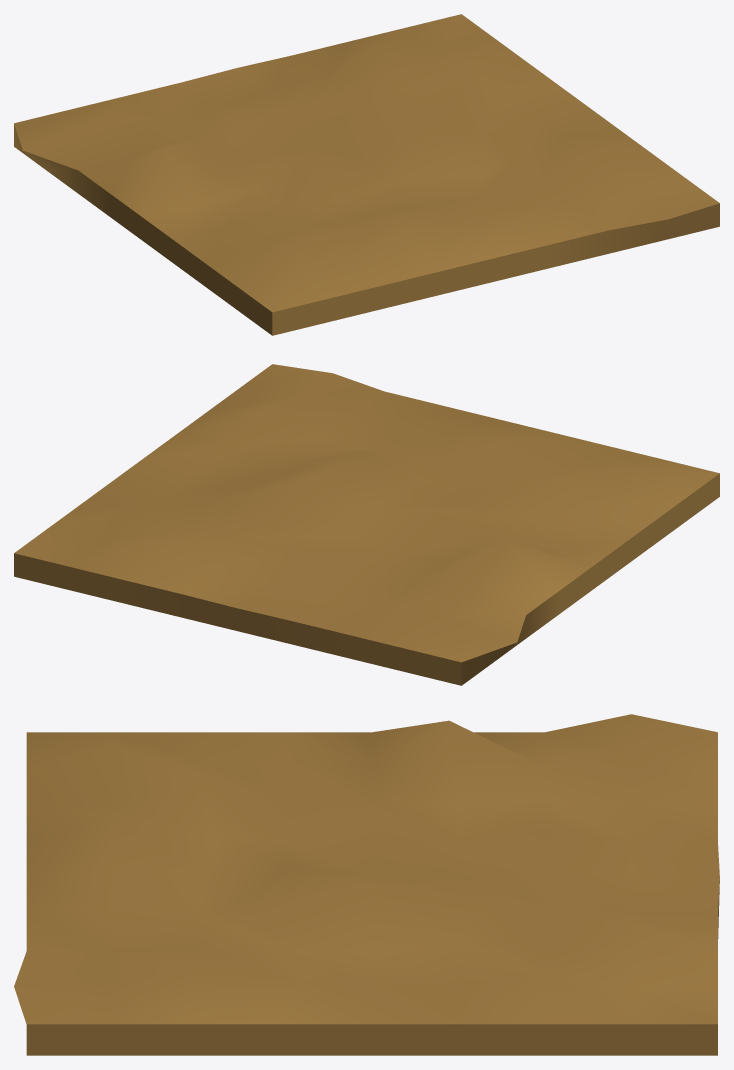
Rendered from Tilled_terrain.fbx.
The picture shows the model from 3 angles, top to bottom: view 1: azimuth 30°, elevation 25°; view 2: azimuth 150°, elevation 25°; view 3: azimuth 270°, elevation 25°; orthographic projection. The views are drawn at different scales.
Parts seen in each view (by area): view 1: Terrain; view 2: Terrain; view 3: Terrain.
Boxes of the visible parts, x1,y1,x2,y2 form: Terrain: (14,14,719,335); Terrain: (14,364,719,685); Terrain: (14,714,719,1055).
Bounding box in the file's own units: 2.1 × 0.2538 × 2.04.
